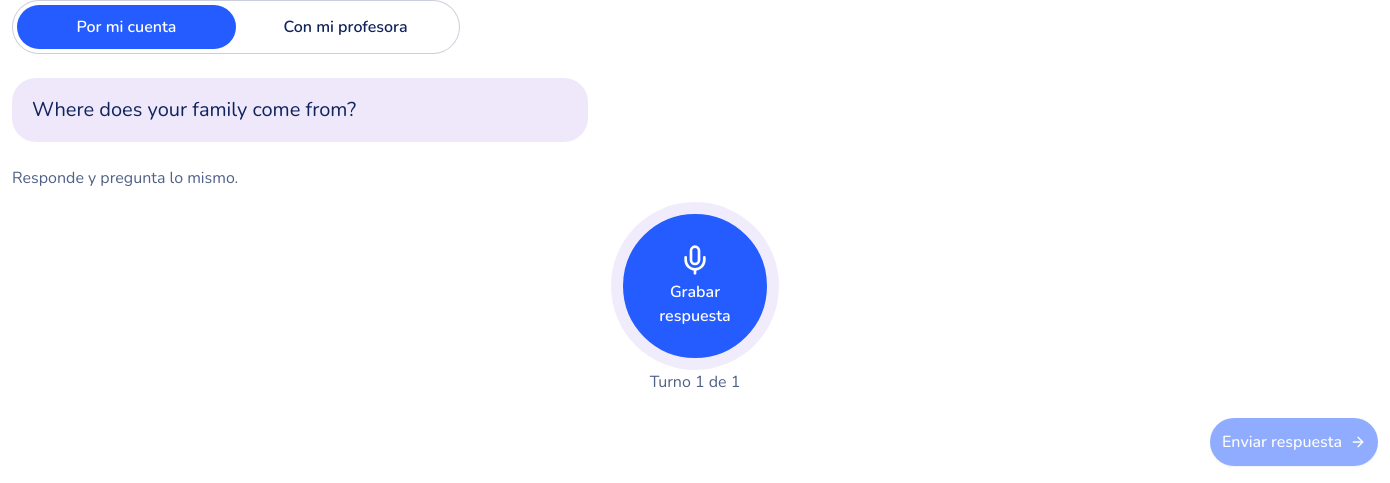
Scenario: Unit 1 conversation production › uses the reviewed course scenario and authored turn count in both study modes
expect the text "Where does your family come from?" is shown: met, box [12,78,588,142]
expect the text "Turno 1 de 1" is shown: met, box [650,370,740,394]
What coordinates should you click on to do the following:
click the button "Con mi profesora"
I would click on:
 (346, 27)
Its box is [236,5,455,49].
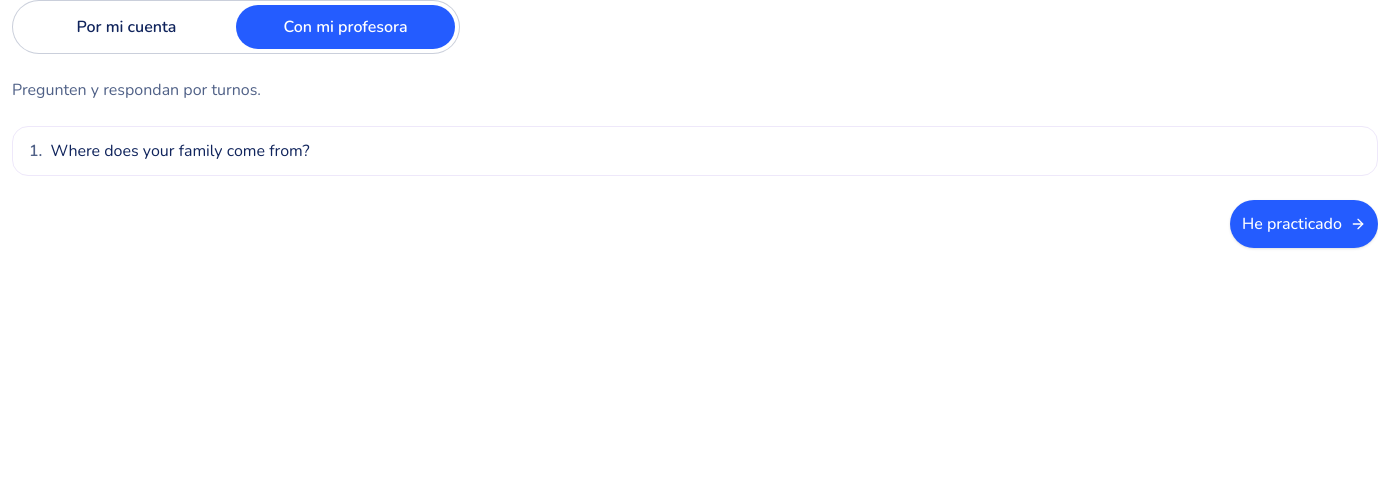
expect the text "Where does your family come from?" is shown: met, box [50,140,310,162]
expect the button "Grabar respuesta" is gone: met
